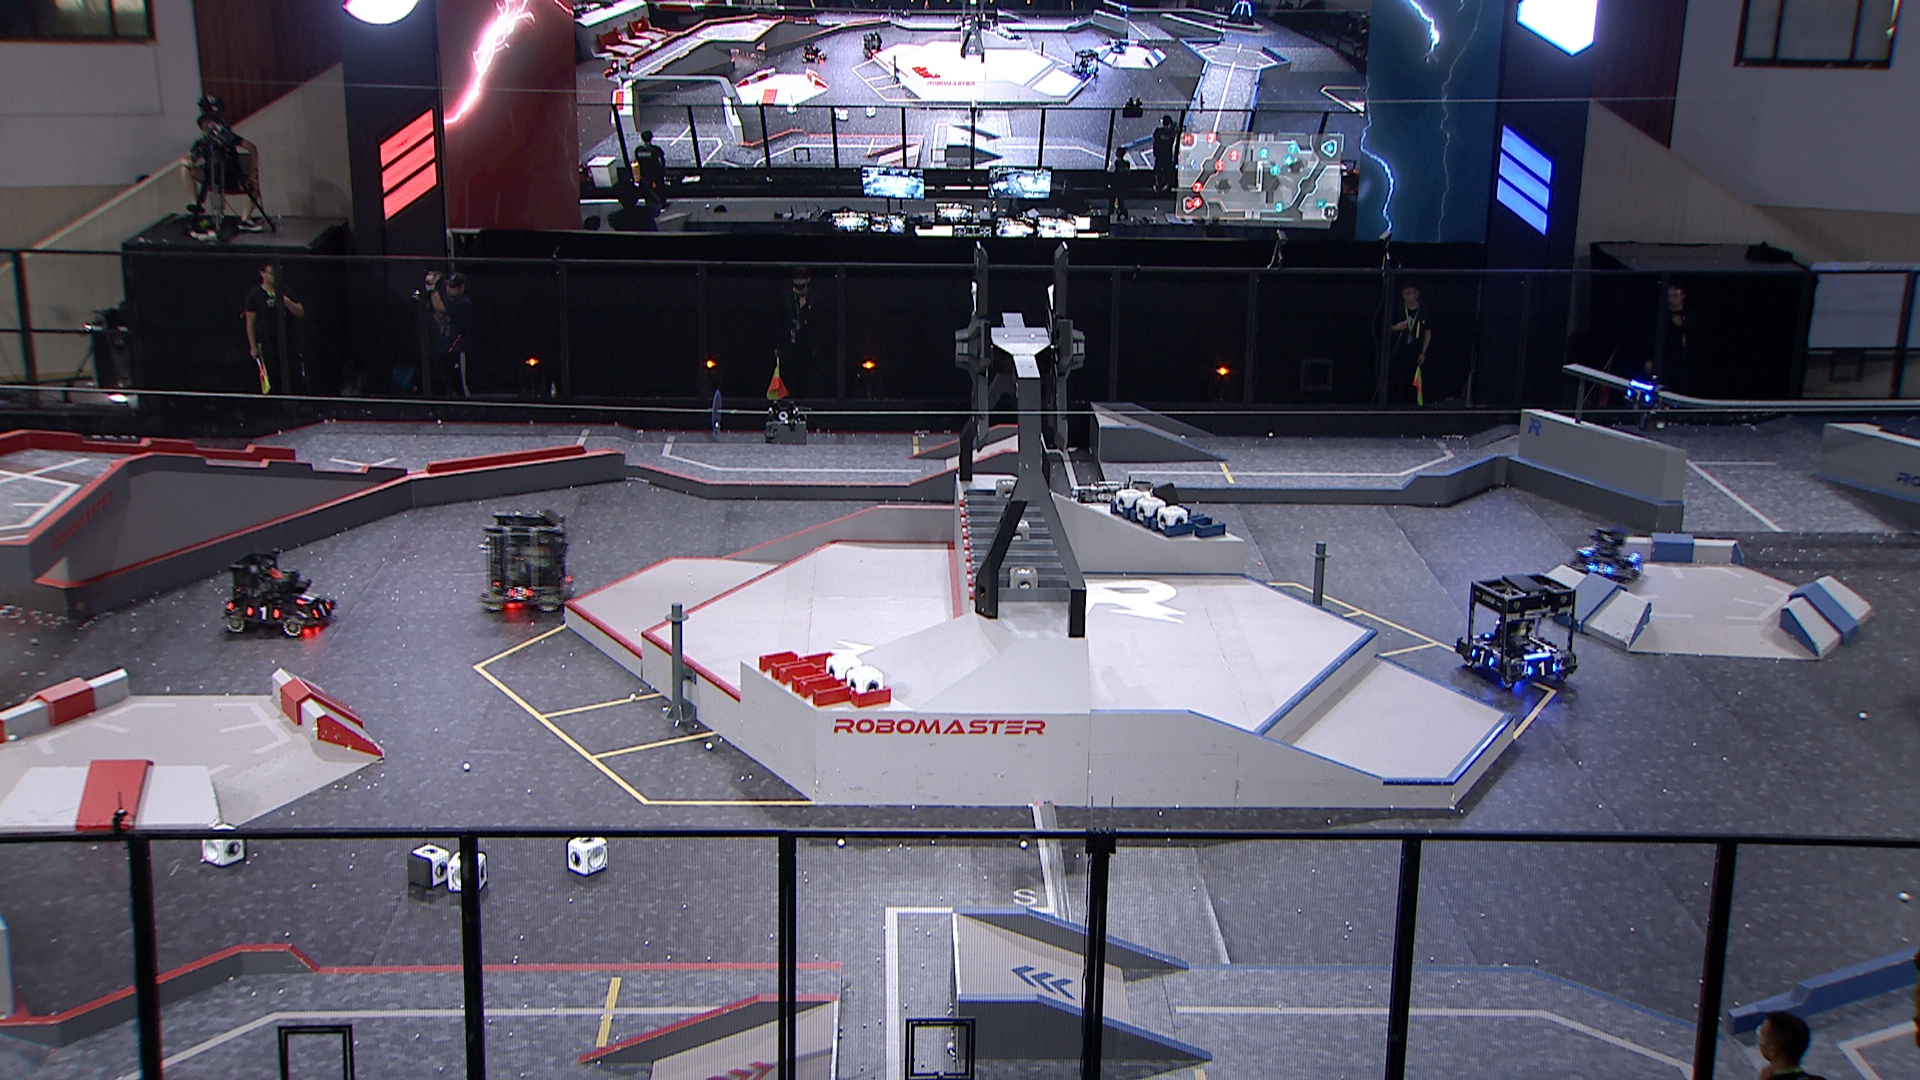armor: (245, 604, 282, 622), (1466, 646, 1495, 669), (1524, 659, 1557, 678), (1623, 386, 1652, 404), (505, 585, 533, 603), (1589, 562, 1613, 578), (314, 600, 334, 618), (291, 591, 314, 607), (1578, 543, 1598, 555)
car: (1452, 574, 1580, 688), (219, 549, 343, 640), (479, 505, 576, 617), (1064, 476, 1159, 566), (1567, 524, 1644, 588)
ignore: (1221, 0, 1258, 26), (1069, 47, 1100, 79), (799, 40, 828, 67), (861, 30, 884, 58)
watcher: (1618, 375, 1676, 436)
